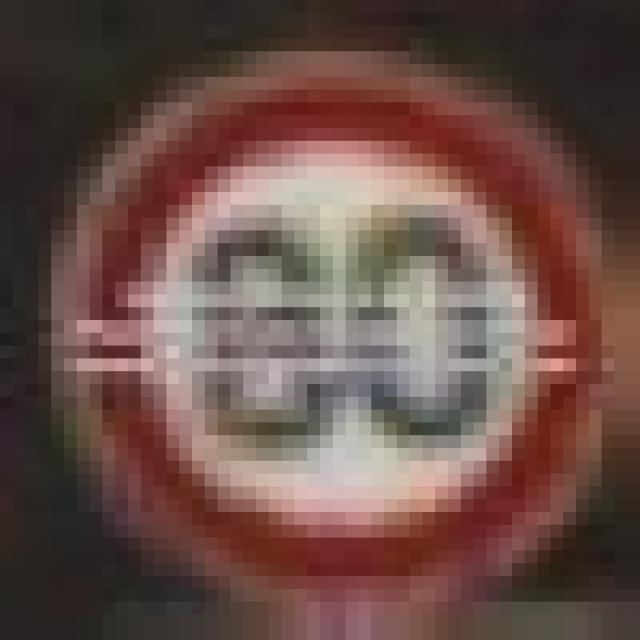SPEED_LIMIT_80: (51, 38, 627, 628)
